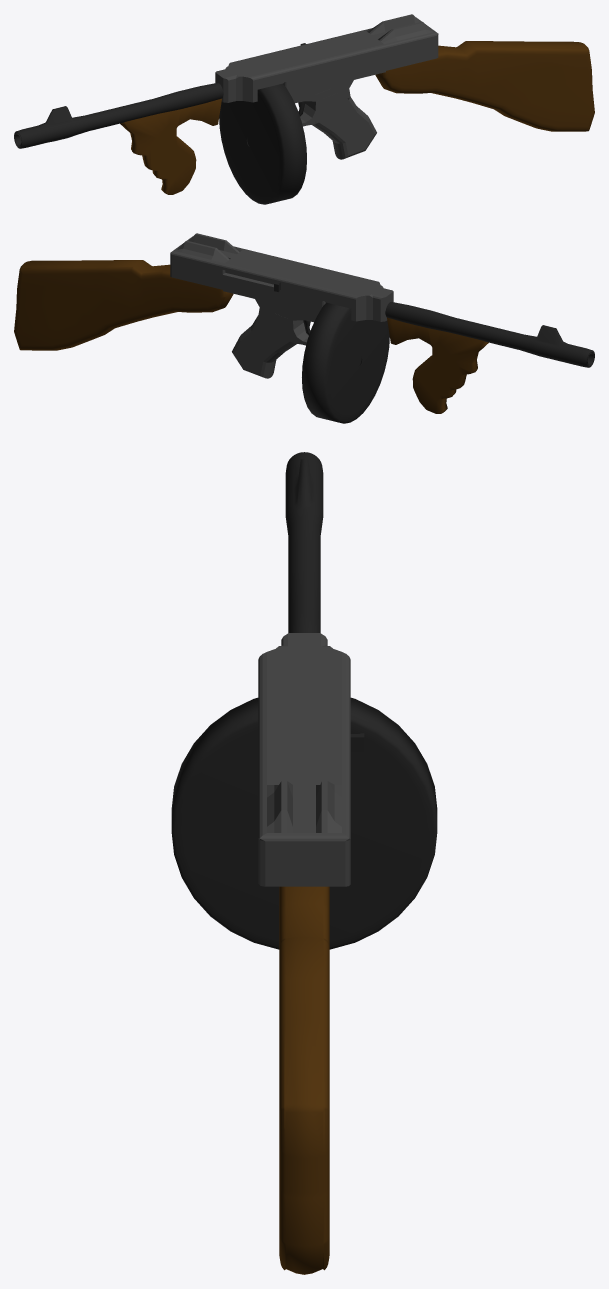
Rendered from thompson (1).fbx.
3 views of the same model, one above another, from view 1: azimuth 30°, elevation 25°; view 2: azimuth 150°, elevation 25°; view 3: azimuth 270°, elevation 25° (orthographic). The views are drawn at different scales.
Parts seen in each view (by area): view 1: Body, Cross, Magasine, Handle, Barrel; view 2: Cross, Body, Magasine, Handle, Barrel; view 3: Magasine, Body, Cross, Barrel.
Part boxes in pixels (x1,y1,x2,y2): Body: [215, 14, 438, 159]; Cross: [375, 41, 594, 131]; Magasine: [219, 83, 306, 204]; Handle: [120, 98, 221, 194]; Barrel: [14, 83, 223, 148]; Cross: [14, 260, 233, 350]; Body: [170, 233, 393, 378]; Magasine: [302, 302, 389, 423]; Handle: [387, 317, 488, 413]; Barrel: [385, 302, 594, 367]; Magasine: [171, 697, 437, 949]; Body: [258, 633, 350, 886]; Cross: [279, 886, 329, 1274]; Barrel: [285, 452, 323, 632].
Size of the model in its own units: 468 by 119 by 93.96.
